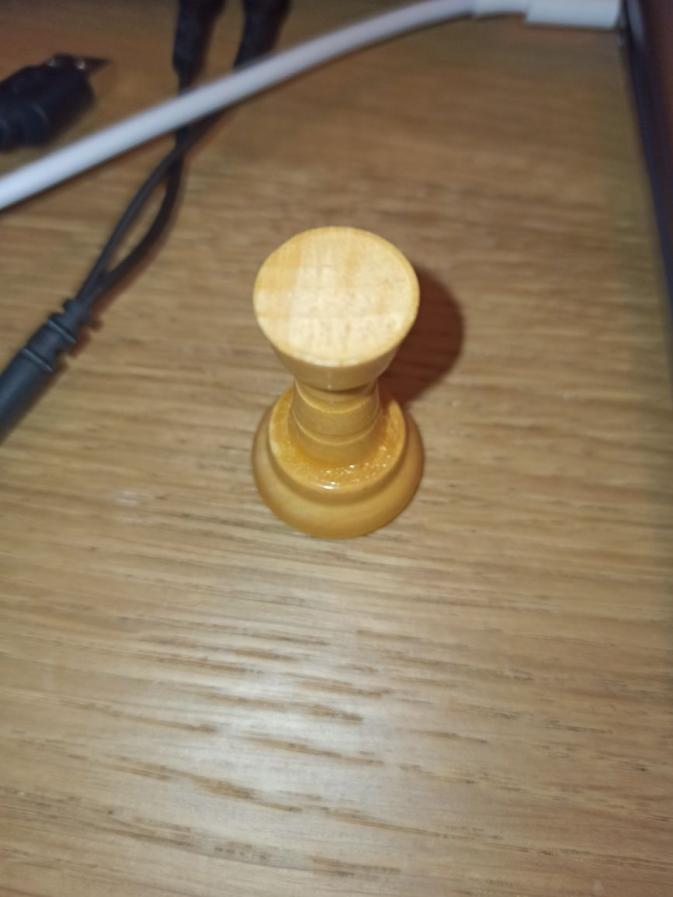wrook: (250, 225, 426, 542)
